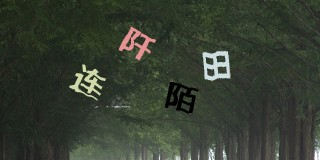田: (200, 49, 232, 82)
连: (68, 63, 105, 100)
阡: (118, 26, 156, 61)
陌: (164, 81, 199, 114)
